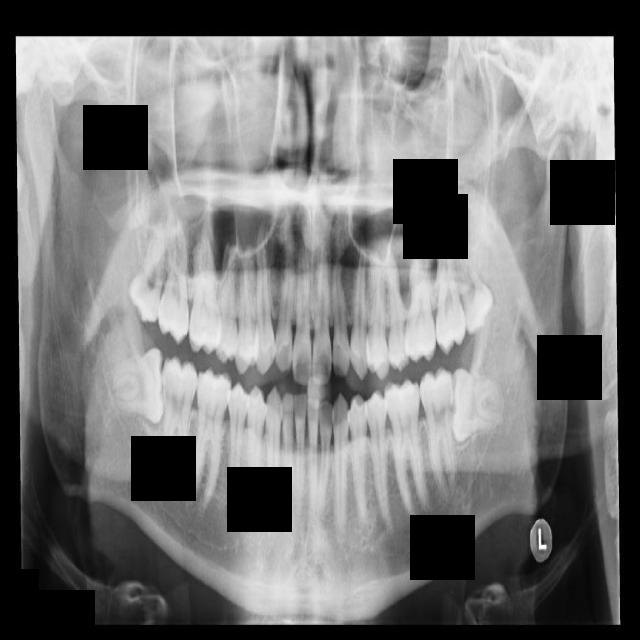3M ESPE Implant: (122, 211, 178, 324)
73: (583, 532, 589, 560)
BioHorizons Implant: (436, 227, 466, 355)
BioLife Implant: (445, 223, 499, 336)
Biomet 3i Implant: (449, 367, 503, 443)
Blue Sky Bio Implant: (419, 367, 457, 498)
Caries: (154, 208, 191, 346)
Implant: (159, 355, 199, 494)
Keystone Dental Implant: (111, 346, 166, 425)
